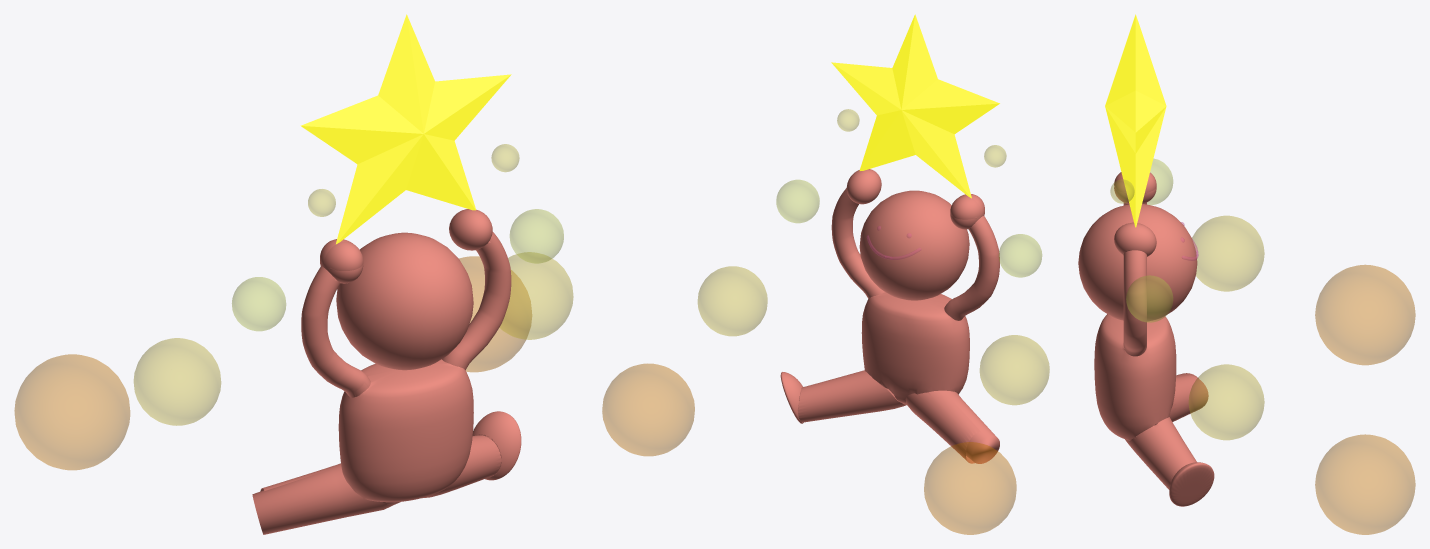
Rendered from IchibanboshiModeling4.glb.
The picture shows the model from 3 angles, left to right: view 1: azimuth 30°, elevation 25°; view 2: azimuth 150°, elevation 25°; view 3: azimuth 270°, elevation 25°; orthographic projection. The views are drawn at different scales.
Visible parts, largest first — view 1: Cone, Body, Head, BigBall.002, RightArm, UnderBall.002, LeftLeg, UnderBall.001, BigBall.001, RightHand, MidBall.001, MidBall.002 (+3 smaller); view 2: Cone, Body, Head, BigBall.002, BigBall.001, RightLeg, UnderBall.001, UnderBall.002, RightArm, LeftArm, LeftLeg, MidBall.001 (+4 smaller); view 3: Head, BigBall.002, BigBall.001, Body, Cone, UnderBall.001, UnderBall.002, RightLeg, RightArm, MidBall.001, Foot, RightHand (+2 smaller).
Part boxes in pixels (x1=…): Cone: x1=300, y1=14, x2=511, y2=244; Body: x1=338, y1=359, x2=473, y2=502; Head: x1=336, y1=232, x2=473, y2=370; BigBall.002: x1=14, y1=354, x2=129, y2=469; RightArm: x1=301, y1=232, x2=511, y2=397; UnderBall.002: x1=134, y1=338, x2=220, y2=425; LeftLeg: x1=252, y1=463, x2=392, y2=534; UnderBall.001: x1=499, y1=252, x2=573, y2=339; BigBall.001: x1=459, y1=256, x2=531, y2=371; RightHand: x1=320, y1=209, x2=492, y2=270; MidBall.001: x1=510, y1=209, x2=563, y2=263; MidBall.002: x1=232, y1=277, x2=285, y2=330; Cone: x1=831, y1=14, x2=999, y2=198; Body: x1=861, y1=292, x2=969, y2=404; Head: x1=859, y1=190, x2=969, y2=300; BigBall.002: x1=924, y1=442, x2=1016, y2=534; BigBall.001: x1=602, y1=363, x2=694, y2=455; RightLeg: x1=798, y1=370, x2=980, y2=463; UnderBall.001: x1=698, y1=266, x2=767, y2=335; UnderBall.002: x1=980, y1=335, x2=1049, y2=404; RightArm: x1=831, y1=188, x2=999, y2=319; LeftArm: x1=944, y1=216, x2=999, y2=320; LeftLeg: x1=905, y1=390, x2=999, y2=463; MidBall.001: x1=776, y1=180, x2=819, y2=222; Head: x1=1078, y1=204, x2=1197, y2=321; BigBall.002: x1=1315, y1=265, x2=1415, y2=364; BigBall.001: x1=1315, y1=434, x2=1415, y2=534; Body: x1=1094, y1=314, x2=1176, y2=440; Cone: x1=1105, y1=14, x2=1166, y2=227; UnderBall.001: x1=1189, y1=364, x2=1264, y2=439; UnderBall.002: x1=1192, y1=216, x2=1264, y2=291; RightLeg: x1=1125, y1=375, x2=1208, y2=489; RightArm: x1=1123, y1=203, x2=1146, y2=356; MidBall.001: x1=1126, y1=275, x2=1172, y2=322; Foot: x1=1169, y1=462, x2=1214, y2=506; RightHand: x1=1114, y1=172, x2=1156, y2=256.
Bounding box in the file's own units: 2.03 × 1.98 × 1.36.
